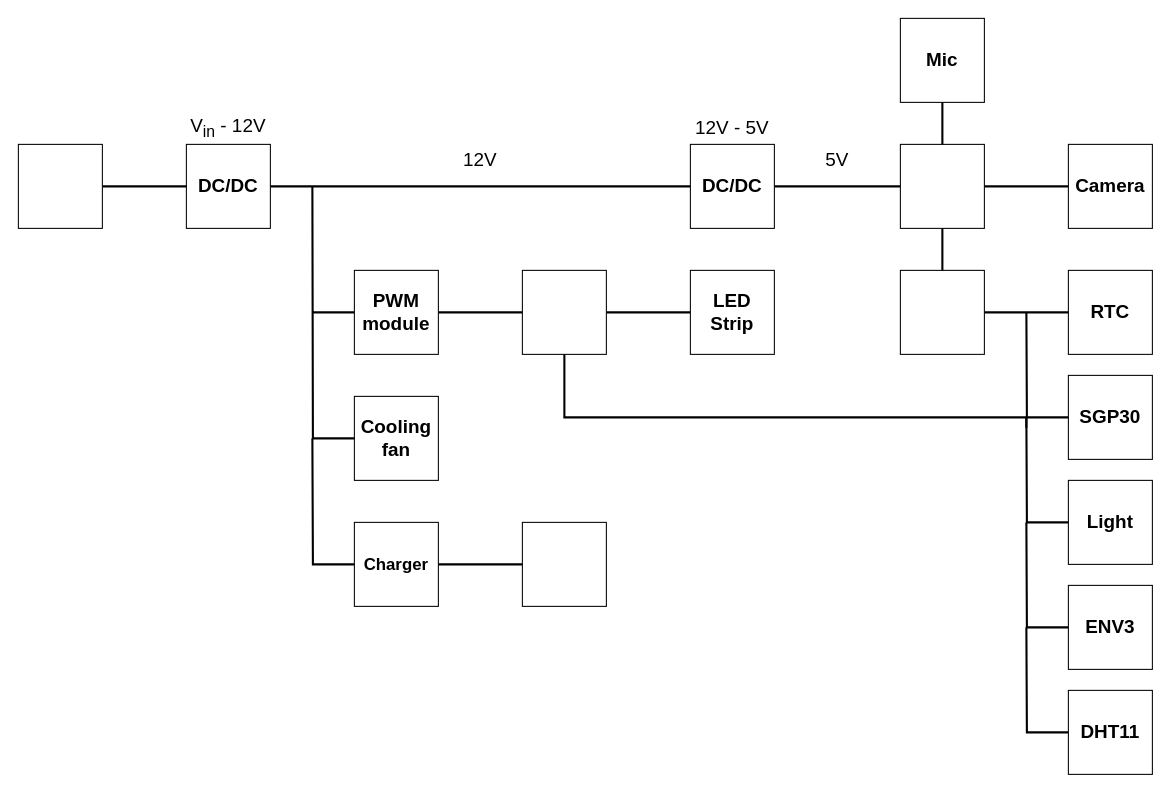
Image size: 1171x793. Some labels were removed from this diagram. Each missing label, with the centre of its shape:
"External battery" belongs at (59,185).
"Internal battery" belongs at (563,563).
"Relay" belongs at (563,311).
"rPi 4" belongs at (941,185).
"Sensor hat" belongs at (941,311).
